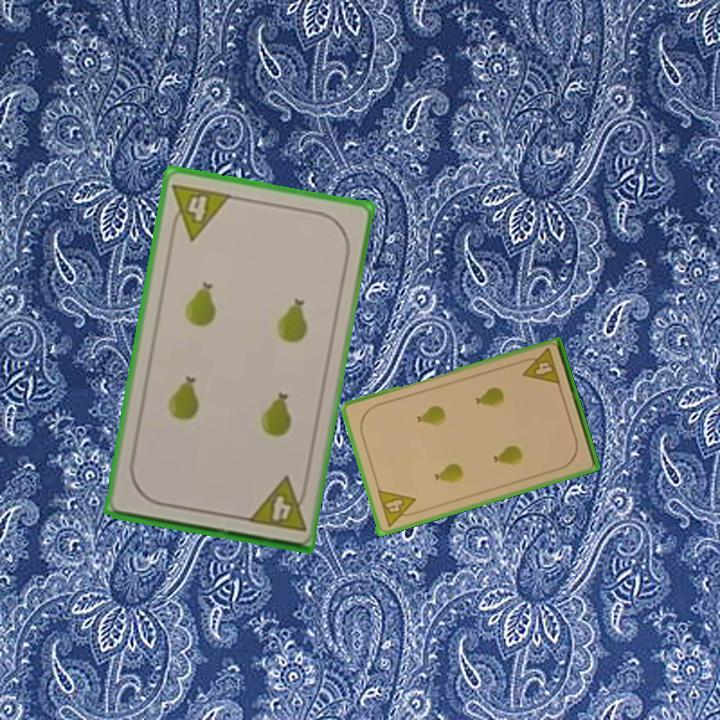4p: (166, 179, 234, 243), (244, 473, 311, 535), (374, 486, 421, 530), (516, 345, 563, 388)
